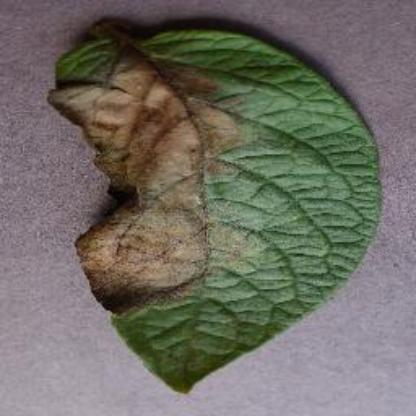Late-Blight: (45, 18, 389, 398)
